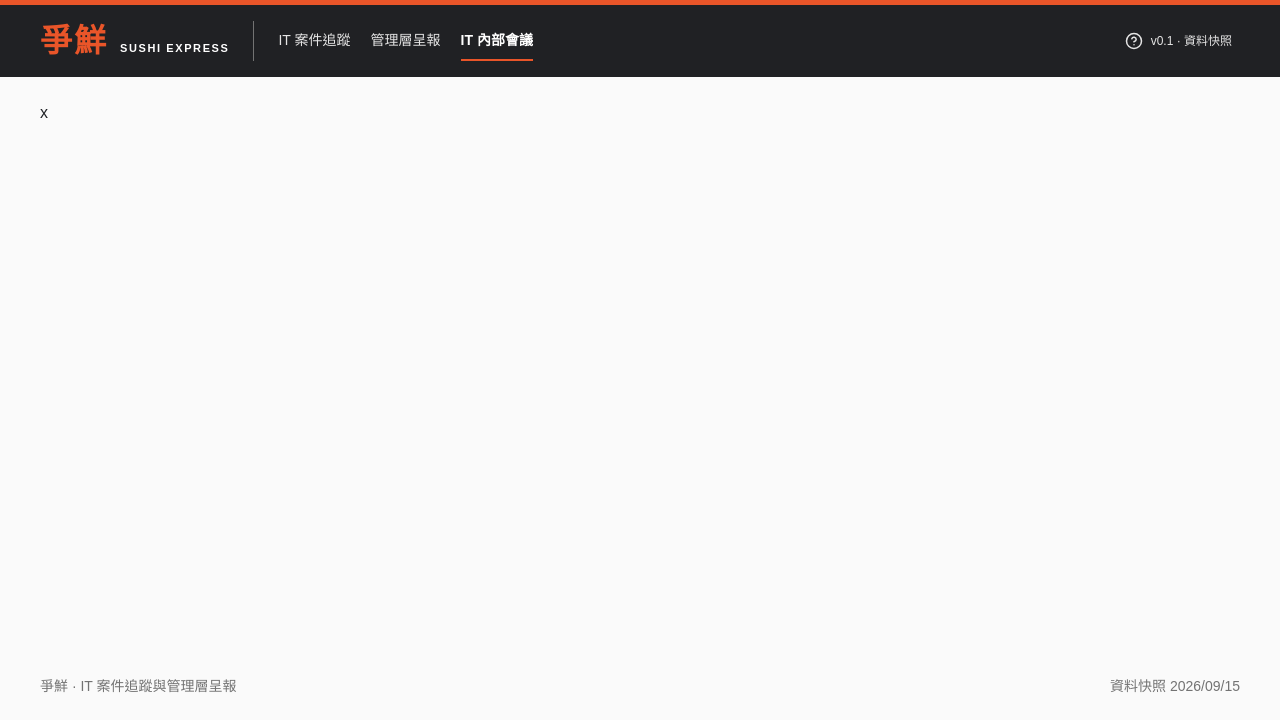
it: AppShell › 點版本說明開啟「關於這個版本」（US-007）
Click the button with aria-label "關於這個版本". click: (1178, 41)
box: top-left (1117, 21), bottom-right (1240, 61)
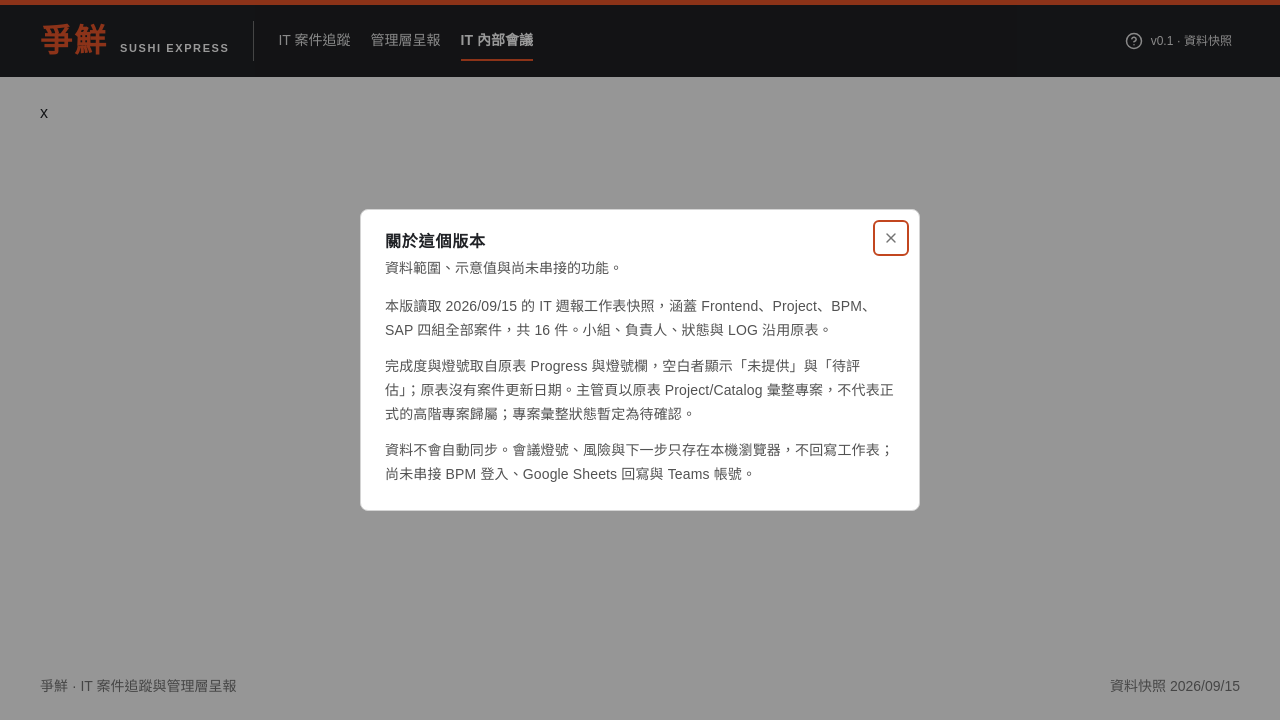
Expected: the dialog "關於這個版本" shows "2026/09/15", top-left (446, 298), bottom-right (517, 314)
Expected: the dialog "關於這個版本" shows "16 件", top-left (360, 209), bottom-right (920, 511)
Expected: the dialog "關於這個版本" shows "完成度與燈號取自原表", top-left (385, 358), bottom-right (894, 422)
